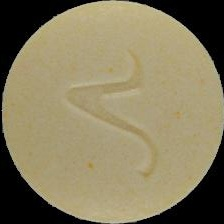52125-683: (0, 0, 224, 224)
